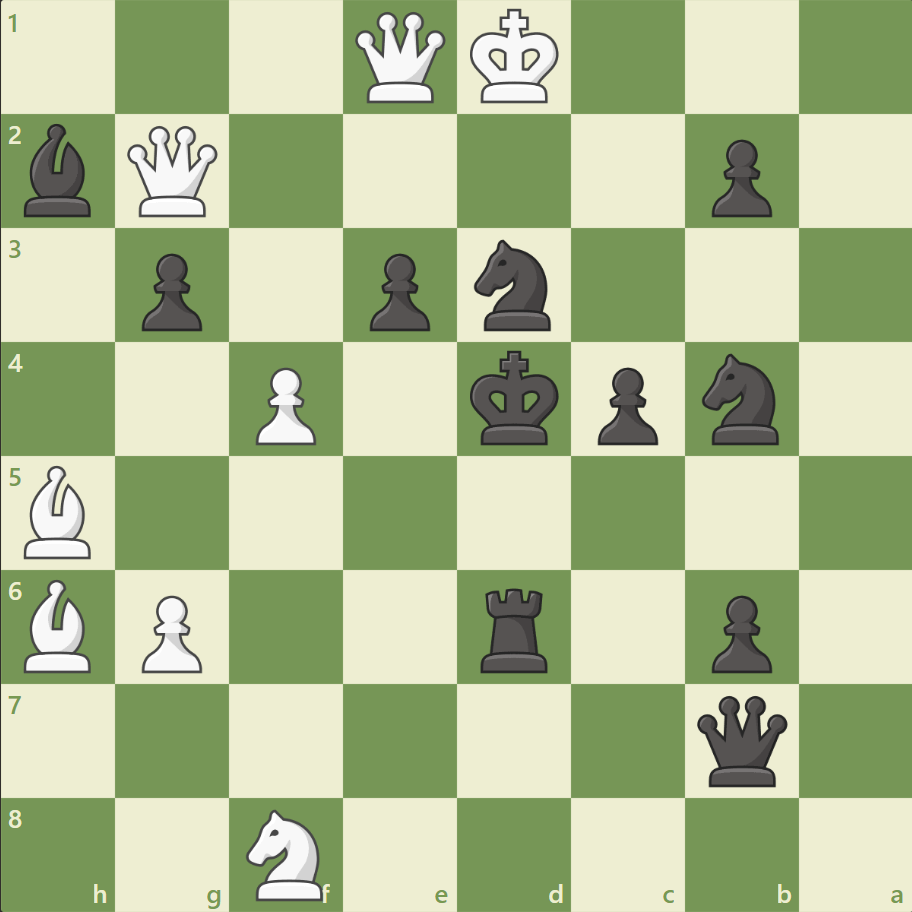B: (17, 460, 101, 563), (17, 574, 101, 676)
K: (465, 4, 565, 112)
N: (238, 802, 335, 904)
P: (133, 586, 208, 677), (247, 359, 322, 450)
Q: (124, 122, 223, 222), (351, 9, 450, 108)
b: (17, 120, 101, 222)
k: (465, 344, 565, 452)
n: (465, 234, 562, 337), (692, 348, 789, 450)
p: (701, 586, 776, 677), (133, 246, 208, 337), (701, 132, 776, 223), (588, 359, 662, 450), (361, 246, 435, 337)
q: (691, 690, 790, 789)
r: (473, 579, 556, 676)
